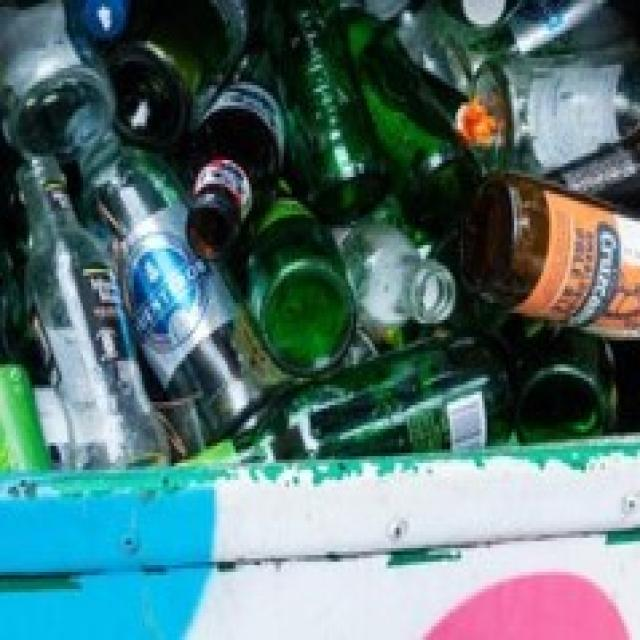electronic: (64, 97, 298, 436), (153, 321, 511, 480), (18, 140, 174, 480), (456, 163, 640, 349), (261, 0, 394, 227), (182, 46, 290, 268), (236, 182, 357, 378), (110, 0, 270, 143), (464, 48, 640, 176), (0, 0, 122, 172), (326, 206, 456, 336), (502, 318, 622, 453)
